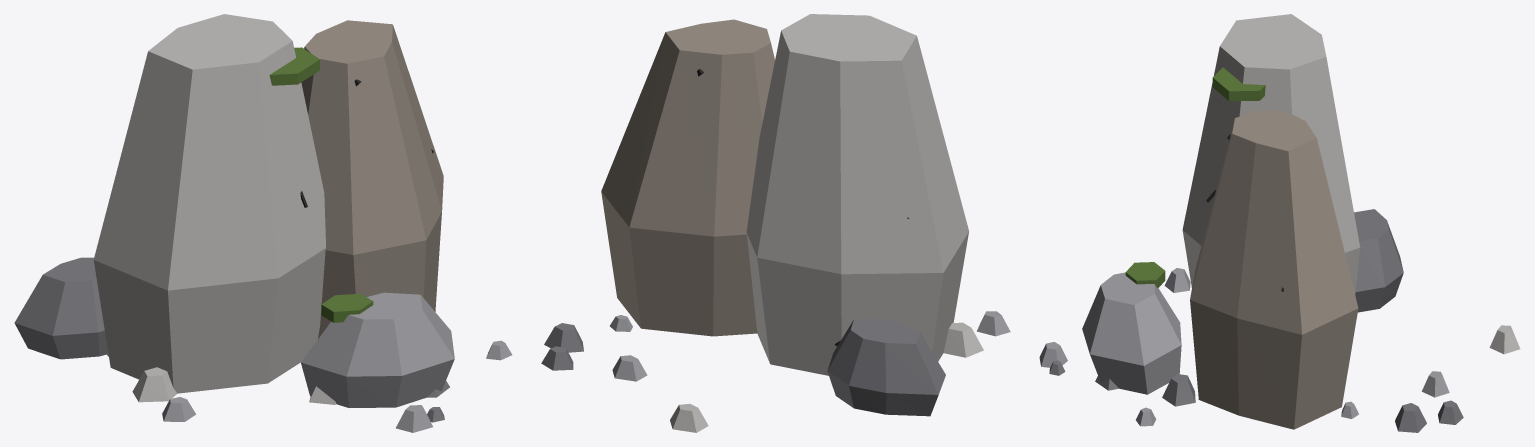
Rendered from stone_3.obj.
3 views of the same model, side by side, from view 1: azimuth 30°, elevation 25°; view 2: azimuth 150°, elevation 25°; view 3: azimuth 270°, elevation 25° (orthographic). The views are drawn at different scales.
Visible parts, largest first — view 1: Boulder, Pebble, Moss; view 2: Boulder, Pebble; view 3: Boulder, Pebble, Moss.
Boxes of the visible parts, box(x1,y1,x2,y2) form: Boulder: box(14, 14, 454, 407); Pebble: box(106, 340, 512, 432); Moss: box(269, 47, 373, 322); Boulder: box(601, 14, 968, 416); Pebble: box(541, 311, 1010, 432); Boulder: box(1082, 14, 1403, 429); Pebble: box(1039, 268, 1520, 432); Moss: box(1125, 67, 1265, 287).
Size of the model in its own units: 2.6 by 2 by 3.05.
